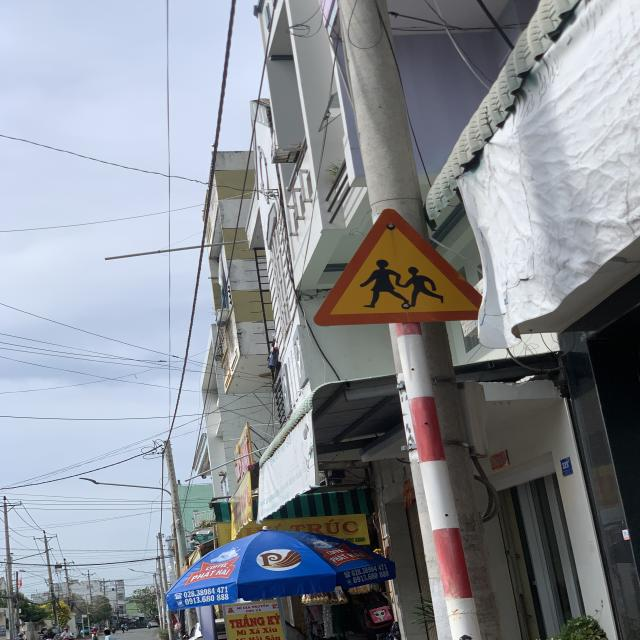Vong_Xuyen: (312, 205, 480, 327)
